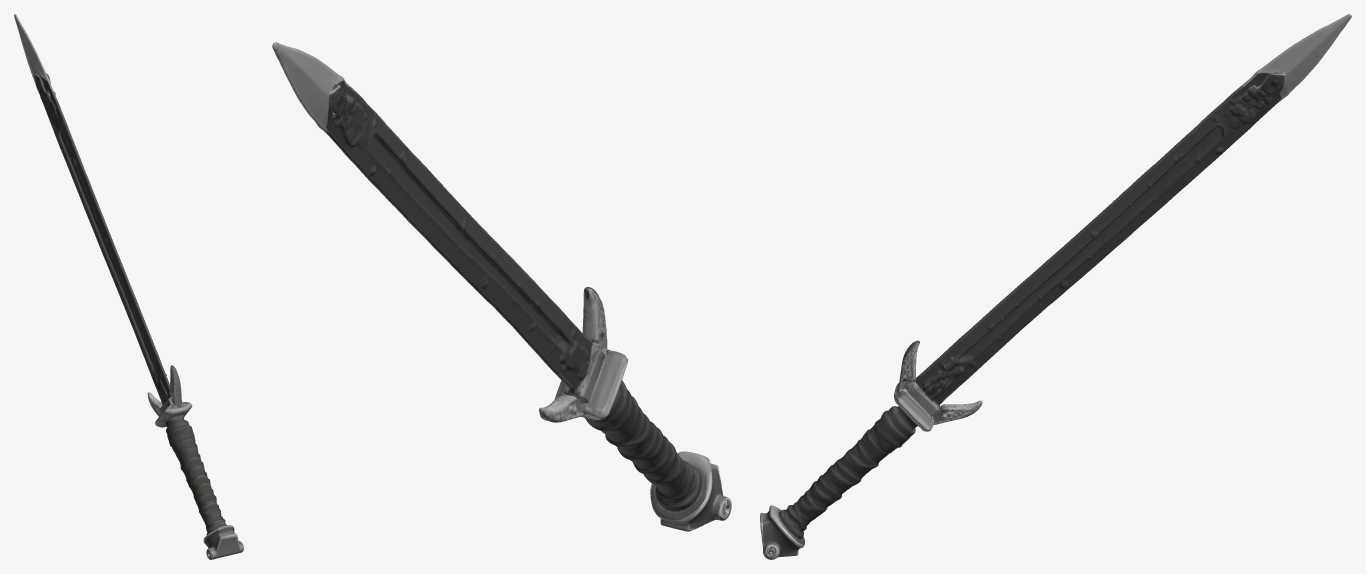
Rendered from tripo_pbr_model_ce040069-0717-44e7-8daa-bb328d0831c7.glb.
3 renders of one model, left to right at view 1: azimuth 30°, elevation 25°; view 2: azimuth 150°, elevation 25°; view 3: azimuth 270°, elevation 25°, orthographic. The views are drawn at different scales.
Visible parts, largest first — view 1: tripo_node_ce040069-0717-44e7-8daa-bb328d0831c7; view 2: tripo_node_ce040069-0717-44e7-8daa-bb328d0831c7; view 3: tripo_node_ce040069-0717-44e7-8daa-bb328d0831c7.
Part boxes in pixels (<box>): tripo_node_ce040069-0717-44e7-8daa-bb328d0831c7: <box>14,14,243,559</box>; tripo_node_ce040069-0717-44e7-8daa-bb328d0831c7: <box>272,42,731,531</box>; tripo_node_ce040069-0717-44e7-8daa-bb328d0831c7: <box>760,14,1351,559</box>.
Size of the model in its own units: 0.09 by 1 by 0.9985.
Materials: 1 (1 with a texture image).
